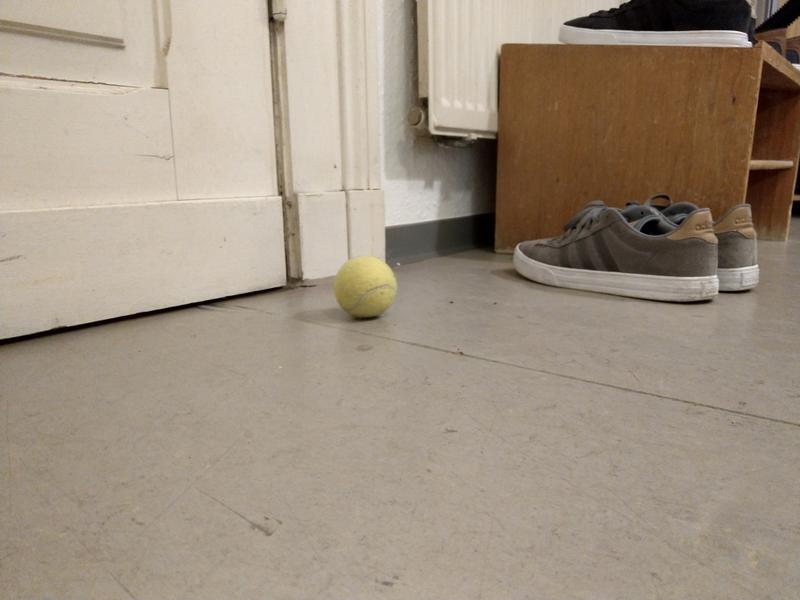Tennisball: (331, 253, 400, 324)
